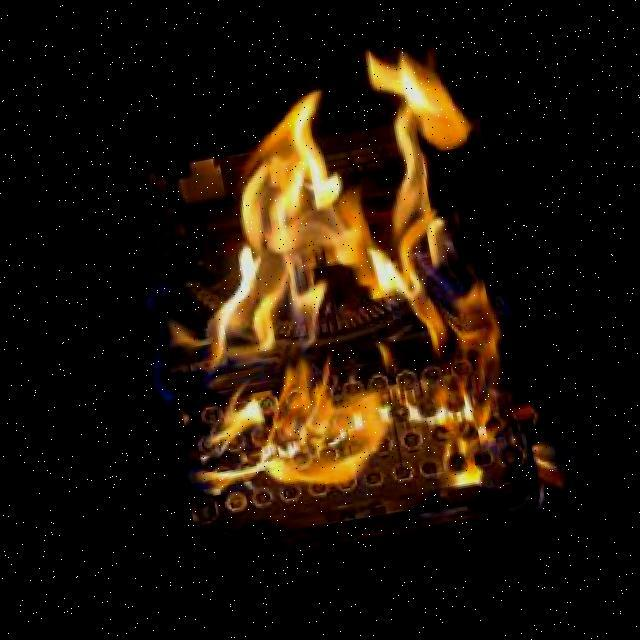Fire: (100, 7, 561, 565)
